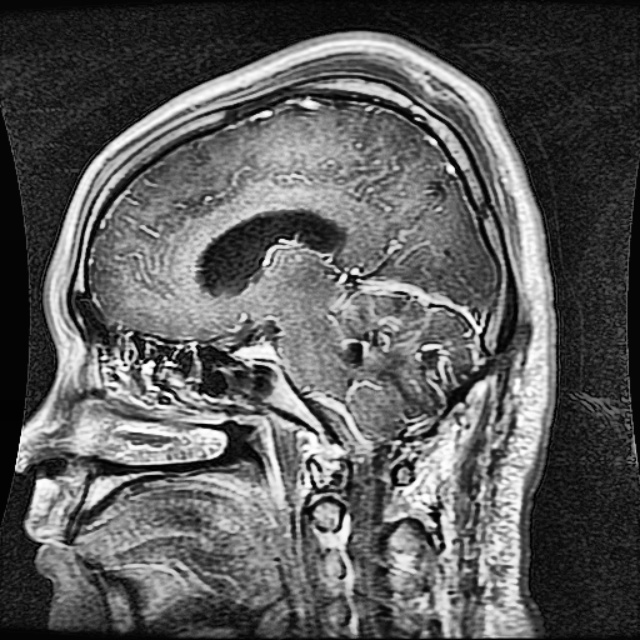Meningioma: (330, 285, 462, 422)
